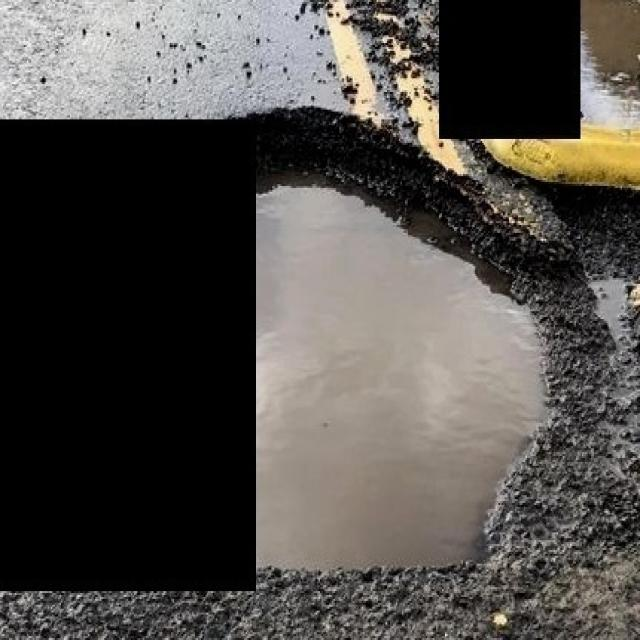road-pothole: (249, 105, 568, 584)
